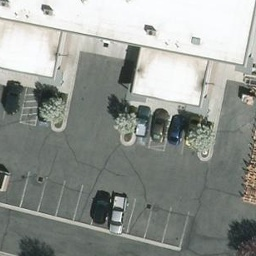car: (87, 190, 114, 224), (108, 195, 126, 235), (153, 109, 168, 143), (168, 113, 183, 146), (136, 106, 151, 133)
